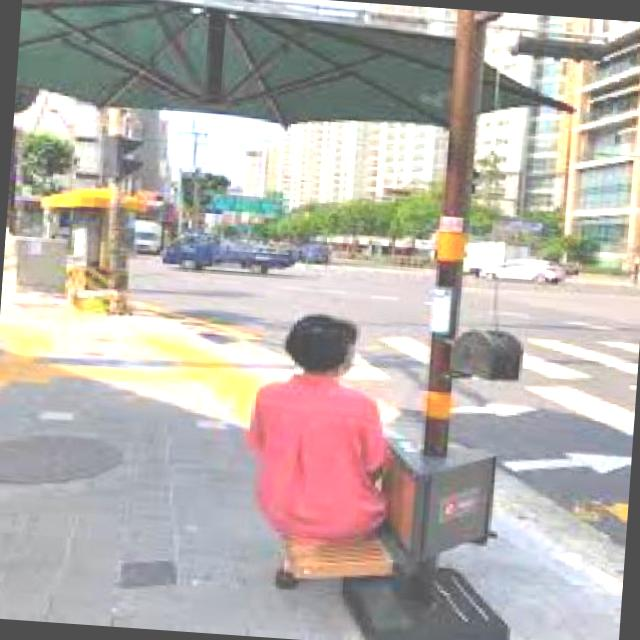Person: (245, 312, 419, 593)
